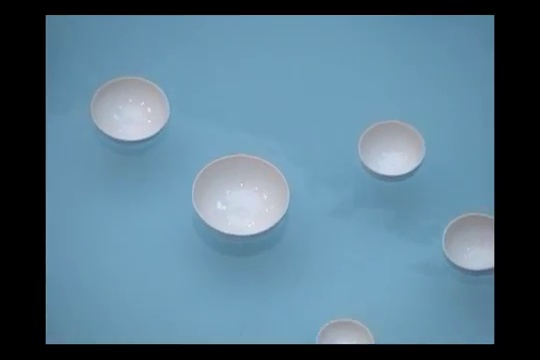bowl: (190, 153, 290, 241), (89, 76, 171, 147), (358, 120, 424, 183), (441, 212, 493, 276), (315, 318, 372, 344)
